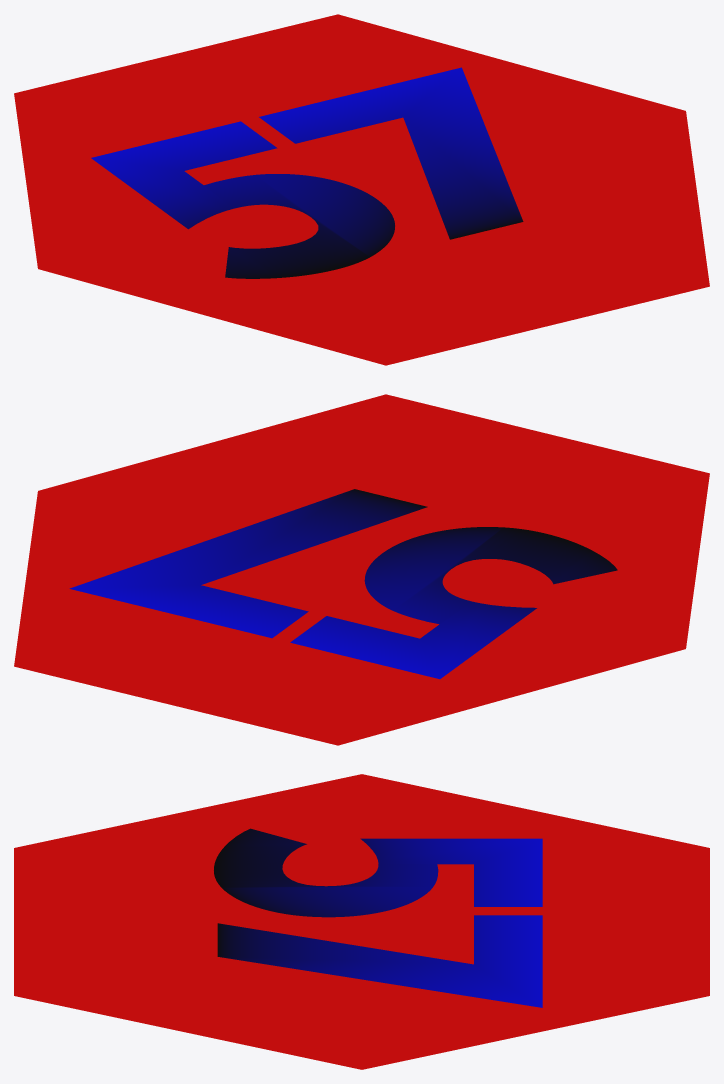
File: SM_Number_57.fbx
3 renders of one model, top to bottom at view 1: azimuth 30°, elevation 25°; view 2: azimuth 150°, elevation 25°; view 3: azimuth 270°, elevation 25°, orthographic. The views are drawn at different scales.
Parts seen in each view (by area): view 1: FBX_OUT; view 2: FBX_OUT; view 3: FBX_OUT.
Boxes of the visible parts, box(x1,y1,x2,y2) form: FBX_OUT: box(14, 14, 709, 365); FBX_OUT: box(14, 394, 709, 745); FBX_OUT: box(14, 774, 709, 1069).
Bounding box in the file's own units: 50 × 0.2917 × 49.71.
